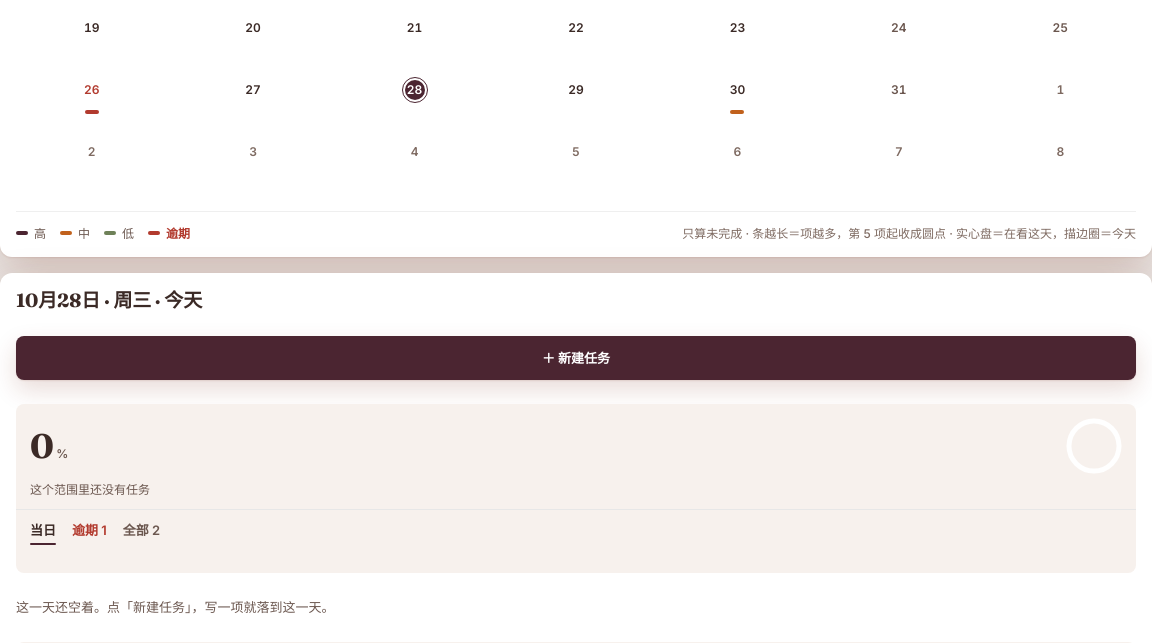
Test: TasksView calendar › lists overdue work with how late it is
(page scrolled)
Click the button "逾期 1" at (89, 532), box [72, 520, 107, 545]
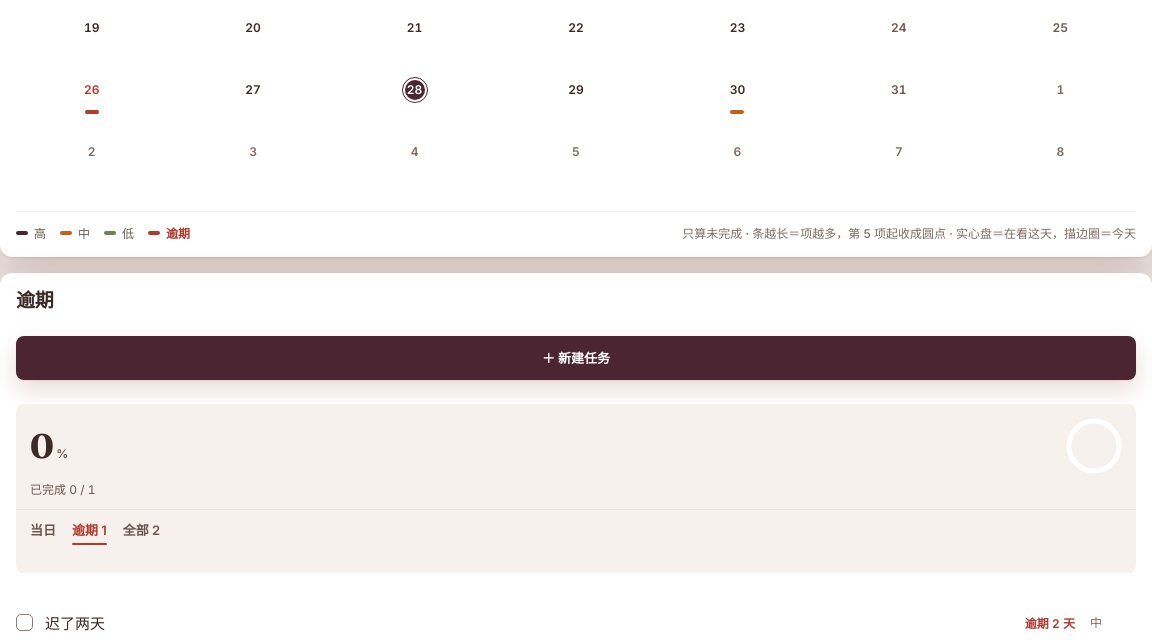
Result: the number of list items is 1 at [16, 611, 1110, 635]
Result: the button "迟了两天" is shown at [45, 612, 1013, 633]
Result: the text with class "tag" reads "逾期 2 天" at [1025, 616, 1075, 631]
